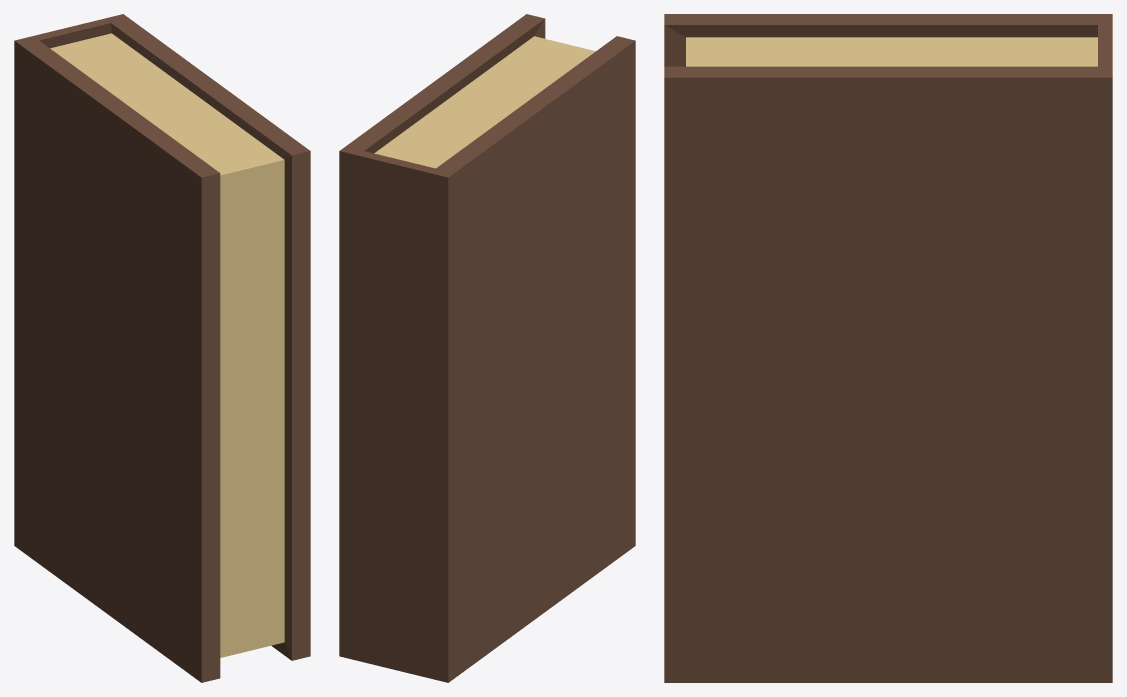
File: Book1_025.fbx
3 views of the same model, side by side, from view 1: azimuth 30°, elevation 25°; view 2: azimuth 150°, elevation 25°; view 3: azimuth 270°, elevation 25° (orthographic). The views are drawn at different scales.
Visible parts, largest first — view 1: Book1.025; view 2: Book1.025; view 3: Book1.025.
Part boxes in pixels (x1,y1,x2,y2): Book1.025: (14, 14, 310, 682); Book1.025: (339, 14, 635, 682); Book1.025: (664, 14, 1112, 682).
Size of the model in its own units: 10.24 by 45.39 by 30.47.
